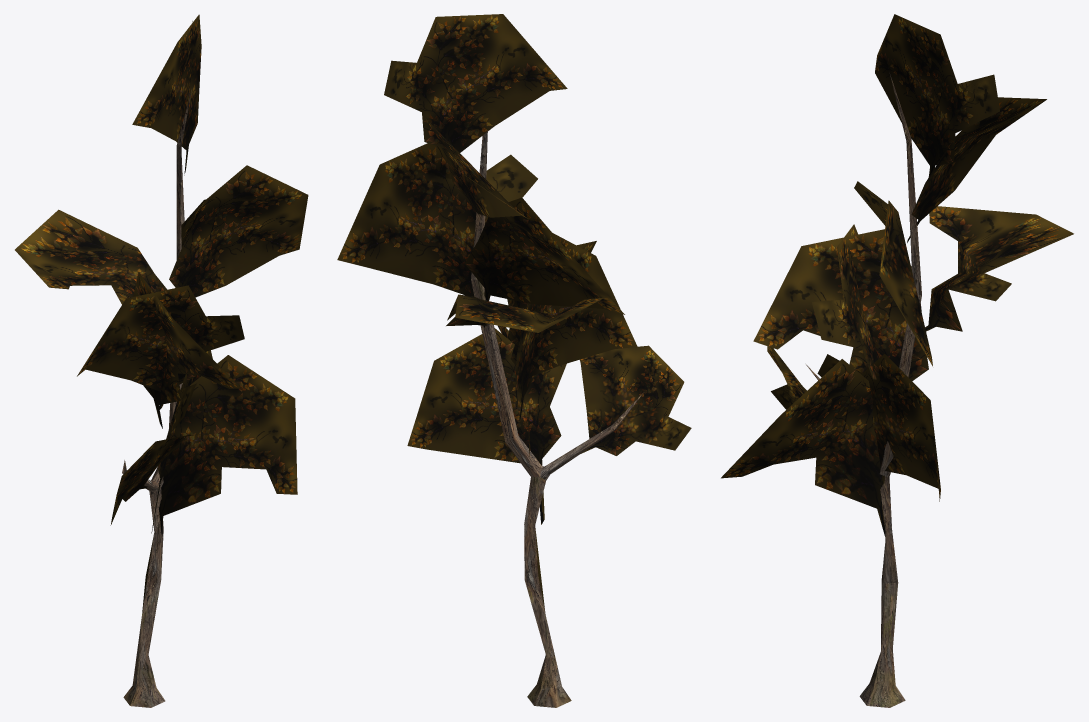
Rendered from tree_3_lod.fbx.
3 views of the same model, side by side, from view 1: azimuth 30°, elevation 25°; view 2: azimuth 150°, elevation 25°; view 3: azimuth 270°, elevation 25° (orthographic). The views are drawn at different scales.
Visible parts, largest first — view 1: Mesh Object; view 2: Mesh Object; view 3: Mesh Object.
Part boxes in pixels (box(x1,y1,x2,y2)): Mesh Object: box(15, 14, 308, 707); Mesh Object: box(337, 14, 691, 707); Mesh Object: box(721, 14, 1073, 707).
Size of the model in its own units: 4.57 by 10.76 by 4.89.
